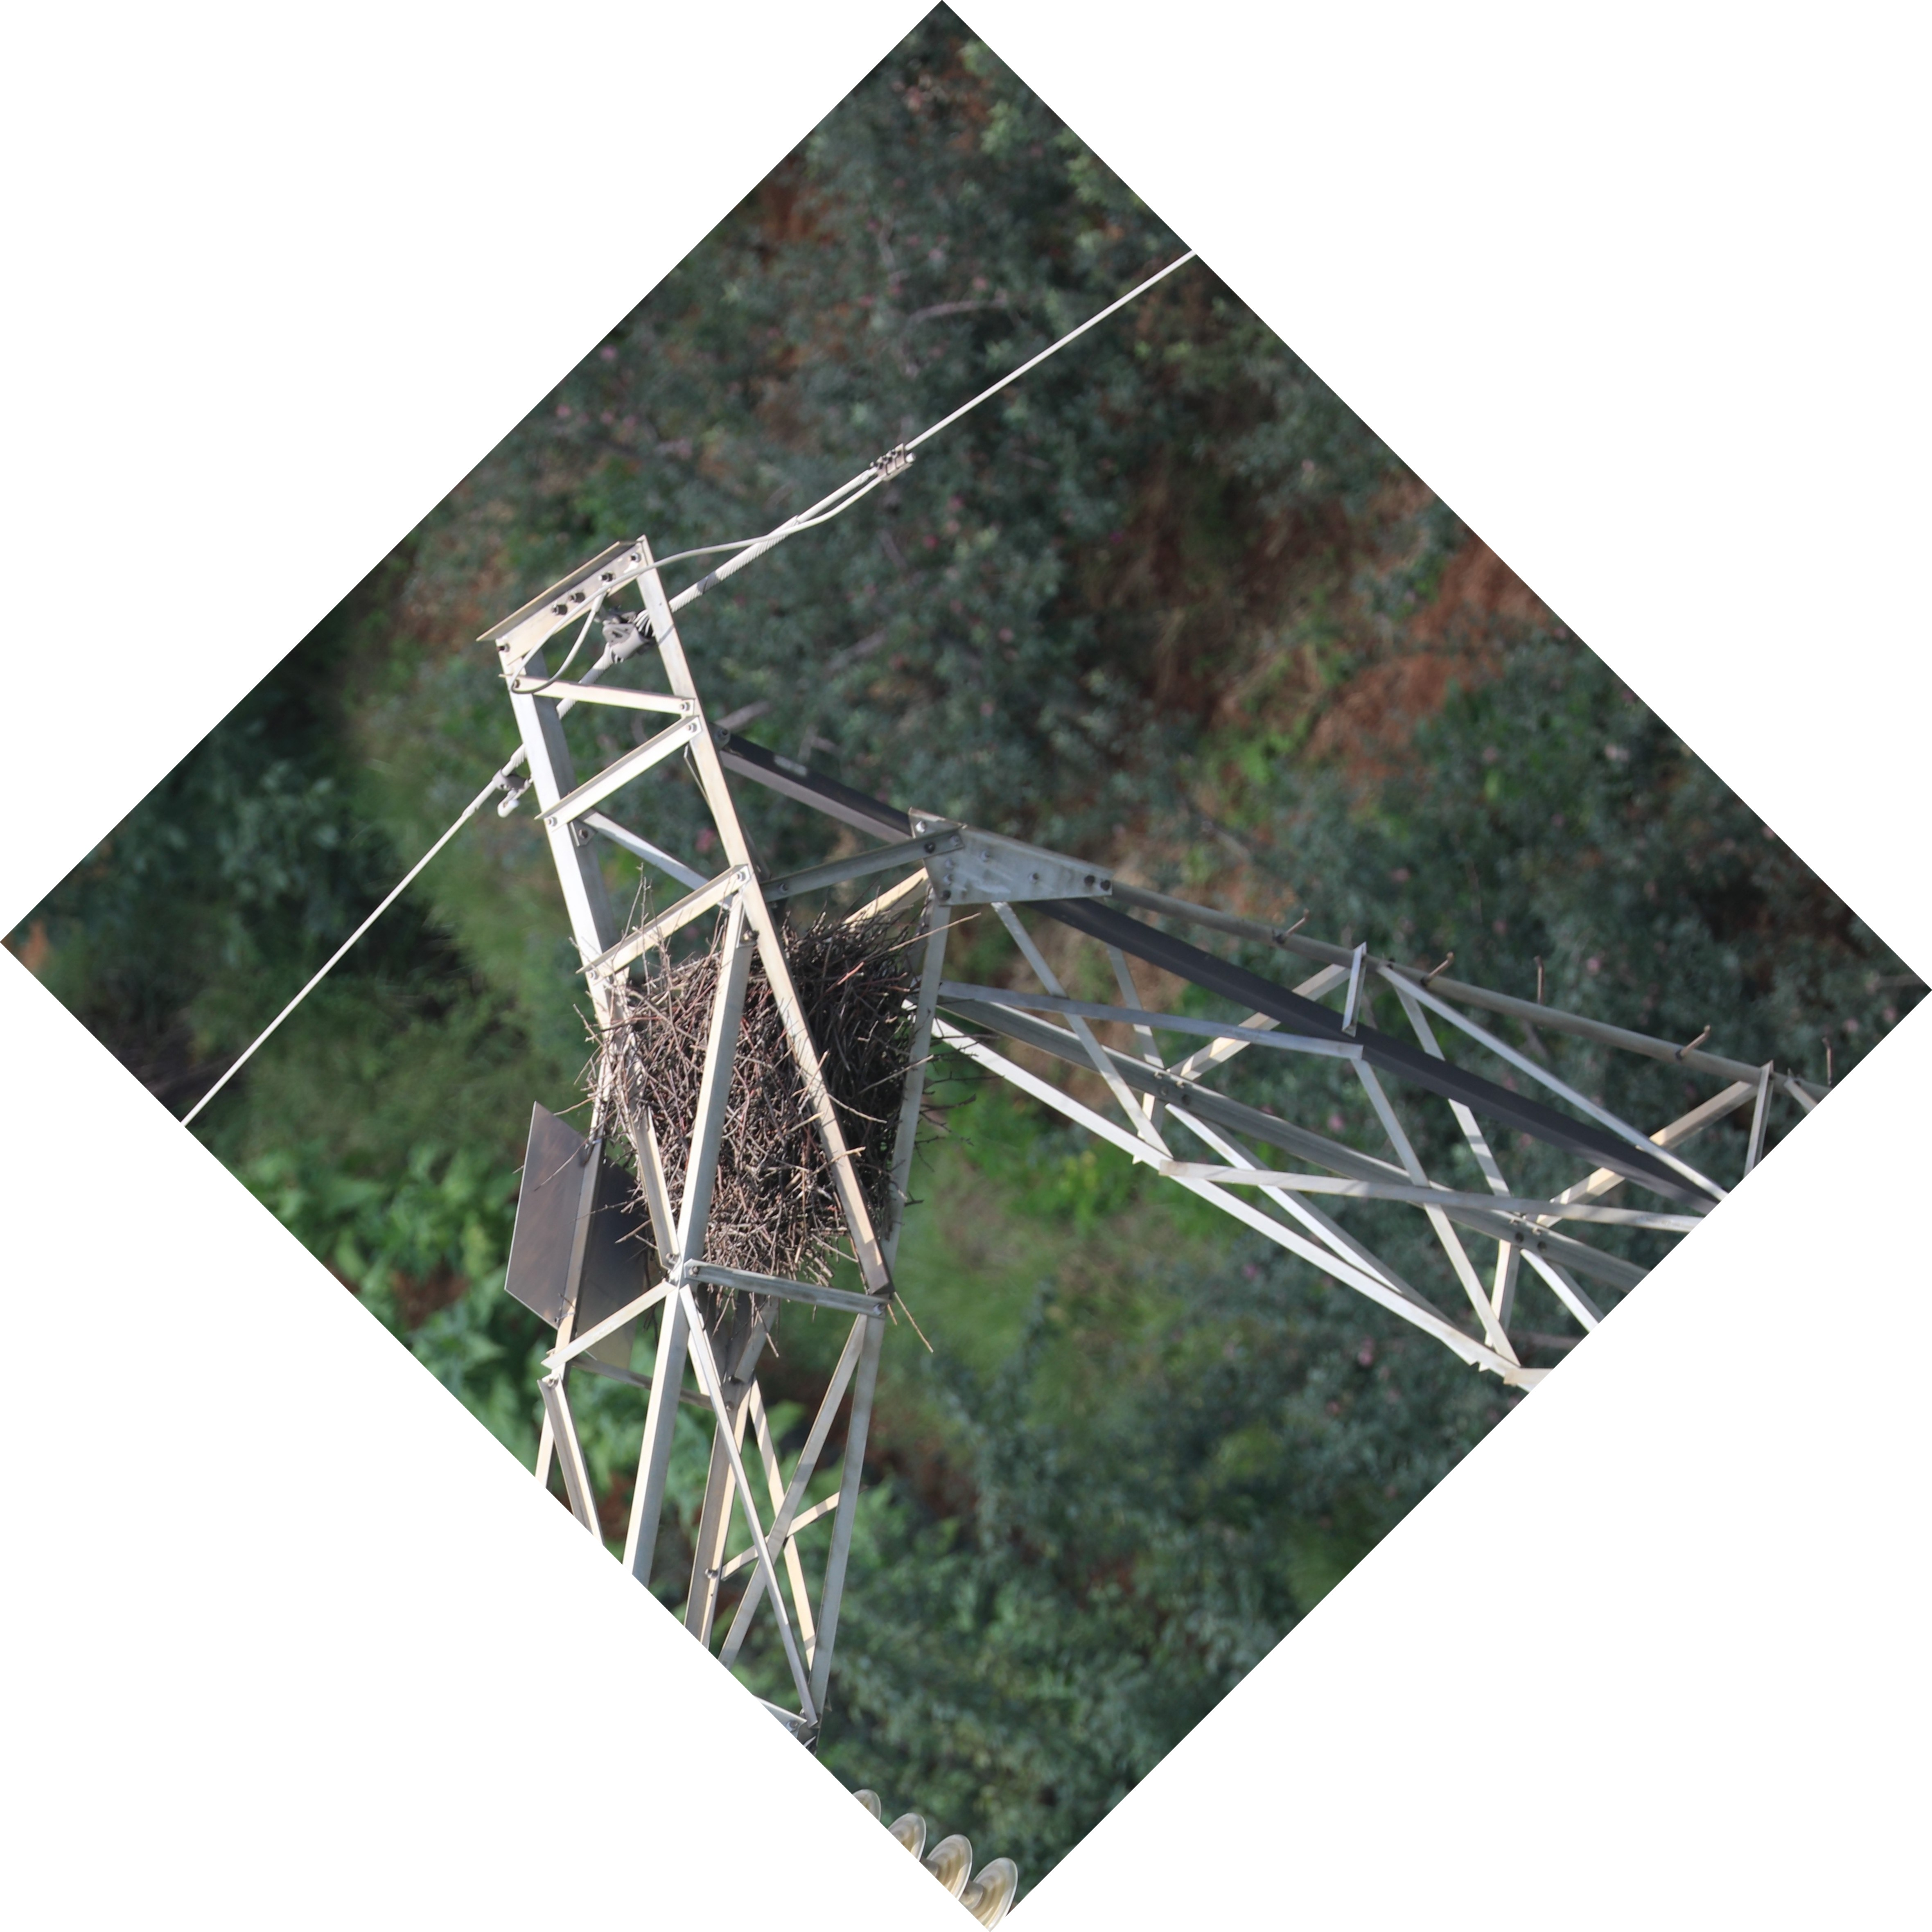niaowo: (561, 904, 943, 1276)
